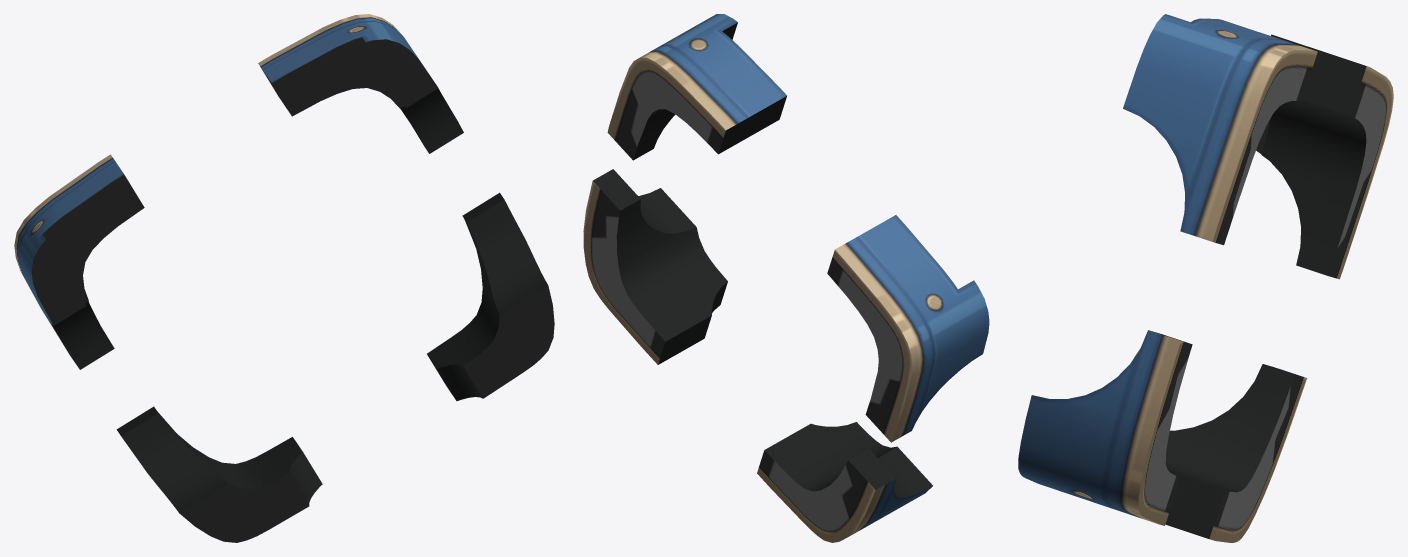
File: Robot Outer Frame.glb
3 renders of one model, left to right at view 1: azimuth 30°, elevation 25°; view 2: azimuth 150°, elevation 25°; view 3: azimuth 270°, elevation 25°, orthographic. The views are drawn at different scales.
Parts seen in each view (by area): view 1: SkillObj_Ineffa_Robot_OuterFrame_LOD0; view 2: SkillObj_Ineffa_Robot_OuterFrame_LOD0; view 3: SkillObj_Ineffa_Robot_OuterFrame_LOD0.
Part boxes in pixels (box(x1,y1,x2,y2)): SkillObj_Ineffa_Robot_OuterFrame_LOD0: box(14, 14, 554, 542); SkillObj_Ineffa_Robot_OuterFrame_LOD0: box(583, 14, 989, 542); SkillObj_Ineffa_Robot_OuterFrame_LOD0: box(1018, 14, 1393, 542).
Size of the model in its own units: 0.2526 by 0.2496 by 0.142.
1 material, 1 textured.
